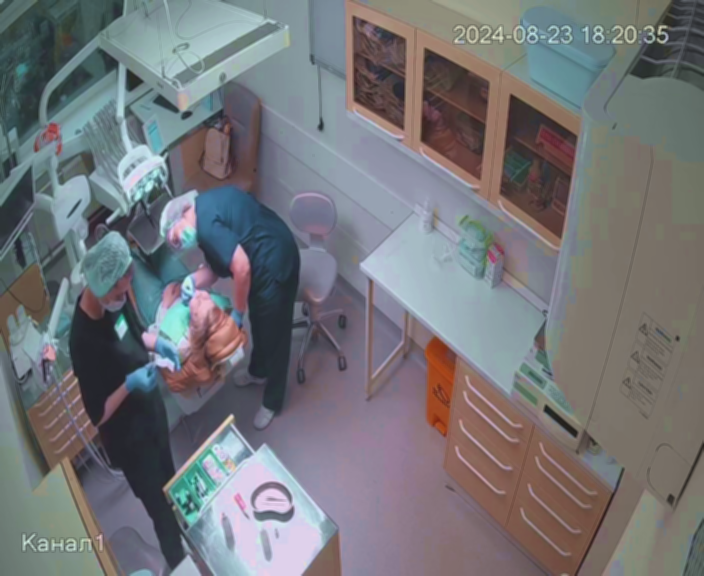Patient: (106, 229, 248, 391)
